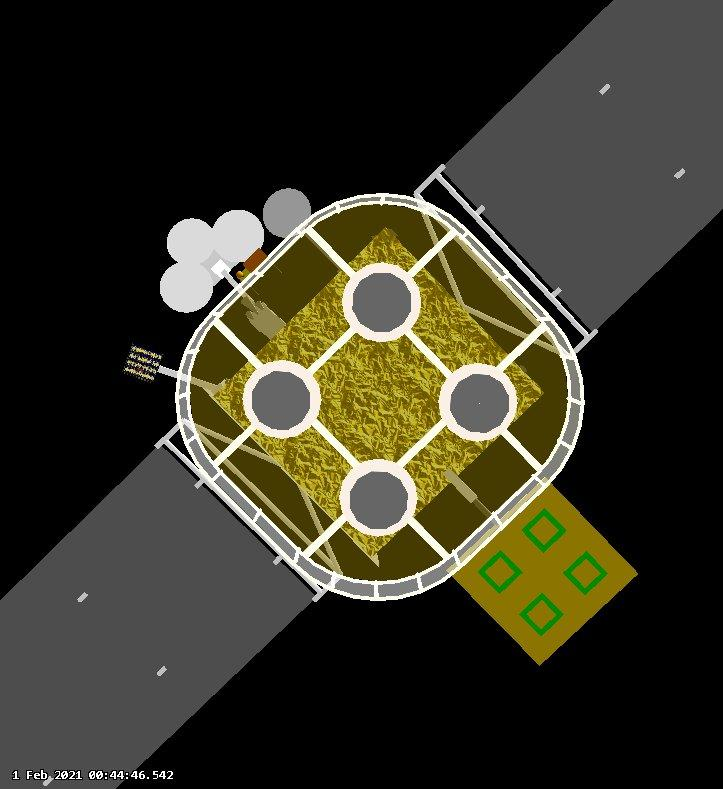antenna: (246, 358, 324, 440), (343, 261, 422, 341), (438, 363, 518, 442), (340, 456, 417, 537), (211, 209, 268, 264), (159, 261, 215, 316), (263, 186, 314, 239), (164, 215, 217, 266)
body: (173, 191, 587, 600)
solar: (0, 418, 346, 789), (410, 0, 723, 364)
